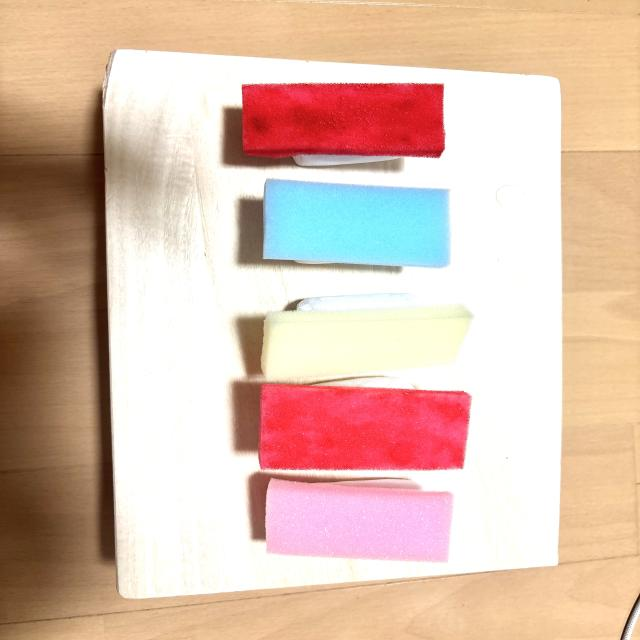NG: (261, 293, 472, 380)
ika: (263, 179, 451, 268)
maguro: (259, 377, 471, 470), (242, 83, 445, 166)
tai: (266, 479, 453, 562)
